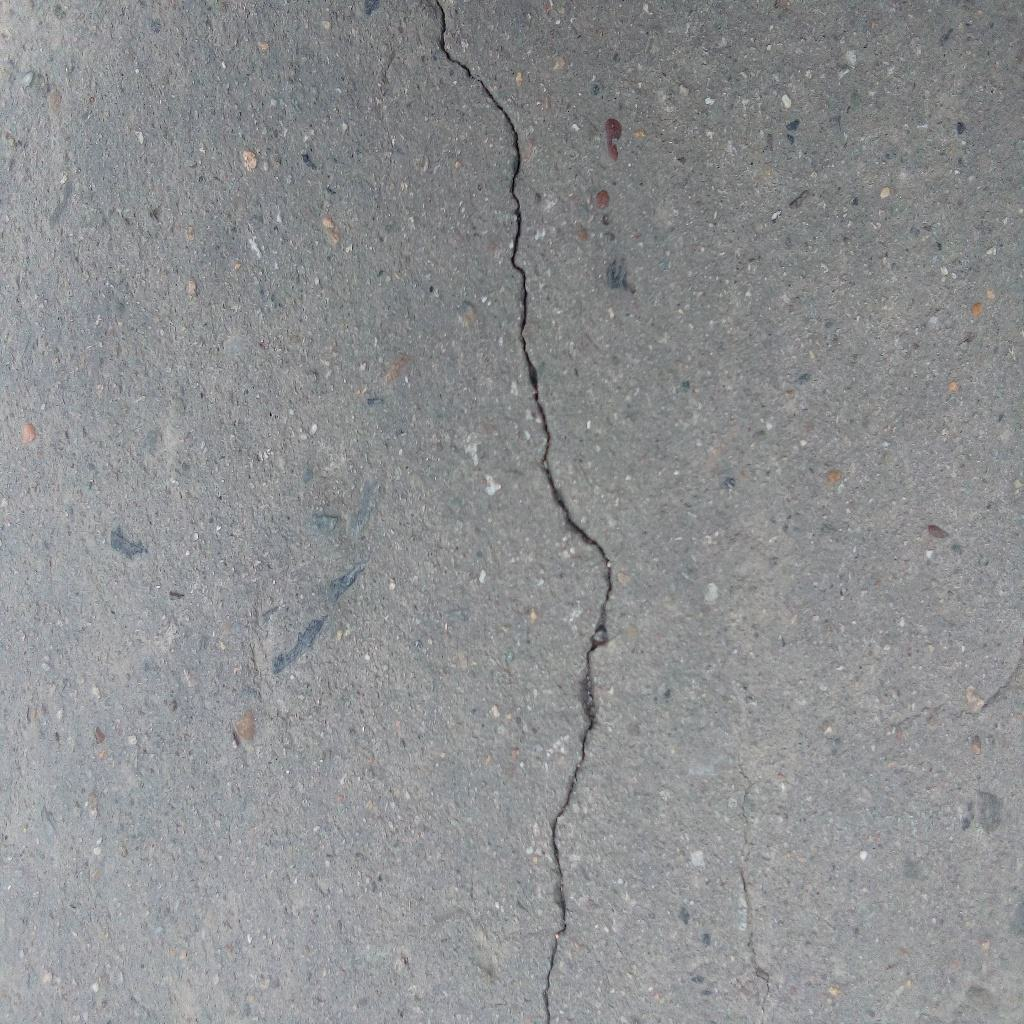Crack: (436, 1, 615, 1024)
